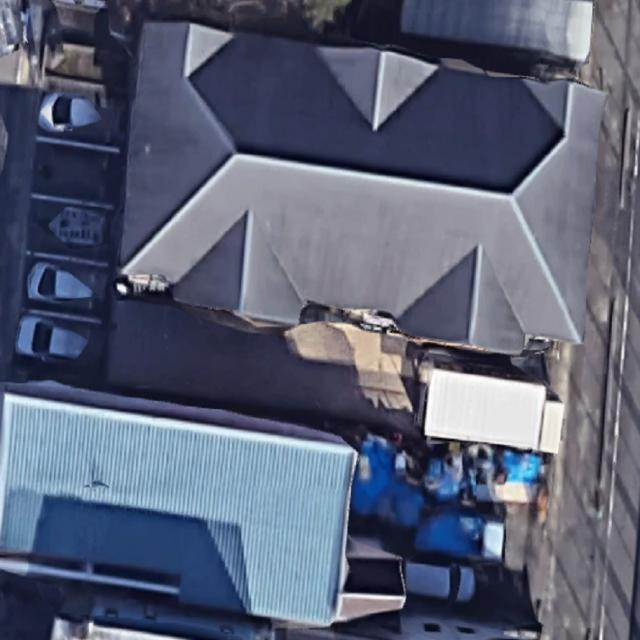Batiment: (118, 22, 604, 354), (0, 383, 358, 625), (424, 369, 564, 453)
